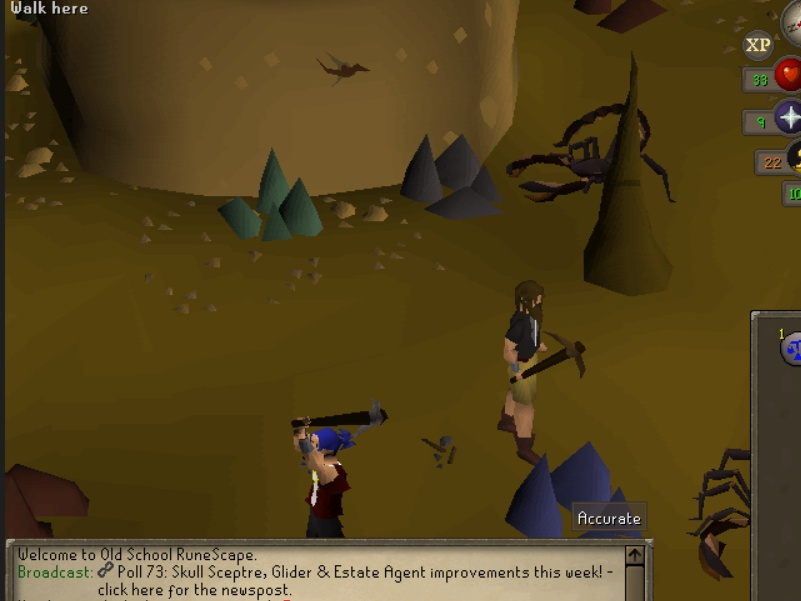adamant: (207, 138, 333, 246)
iron: (3, 443, 93, 537), (563, 1, 670, 36)
mithril: (495, 429, 650, 539)
